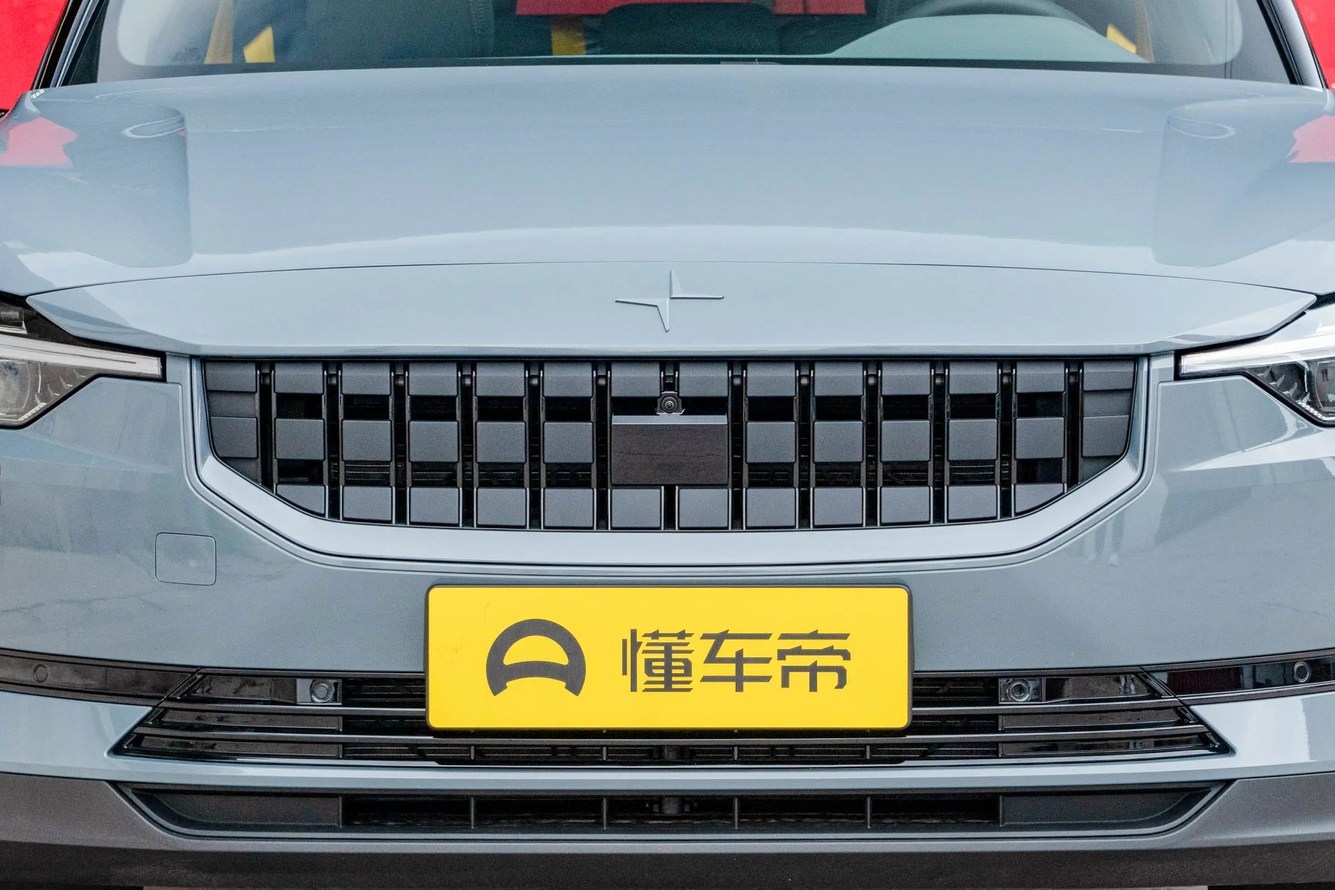Polestar: (615, 270, 723, 332)
